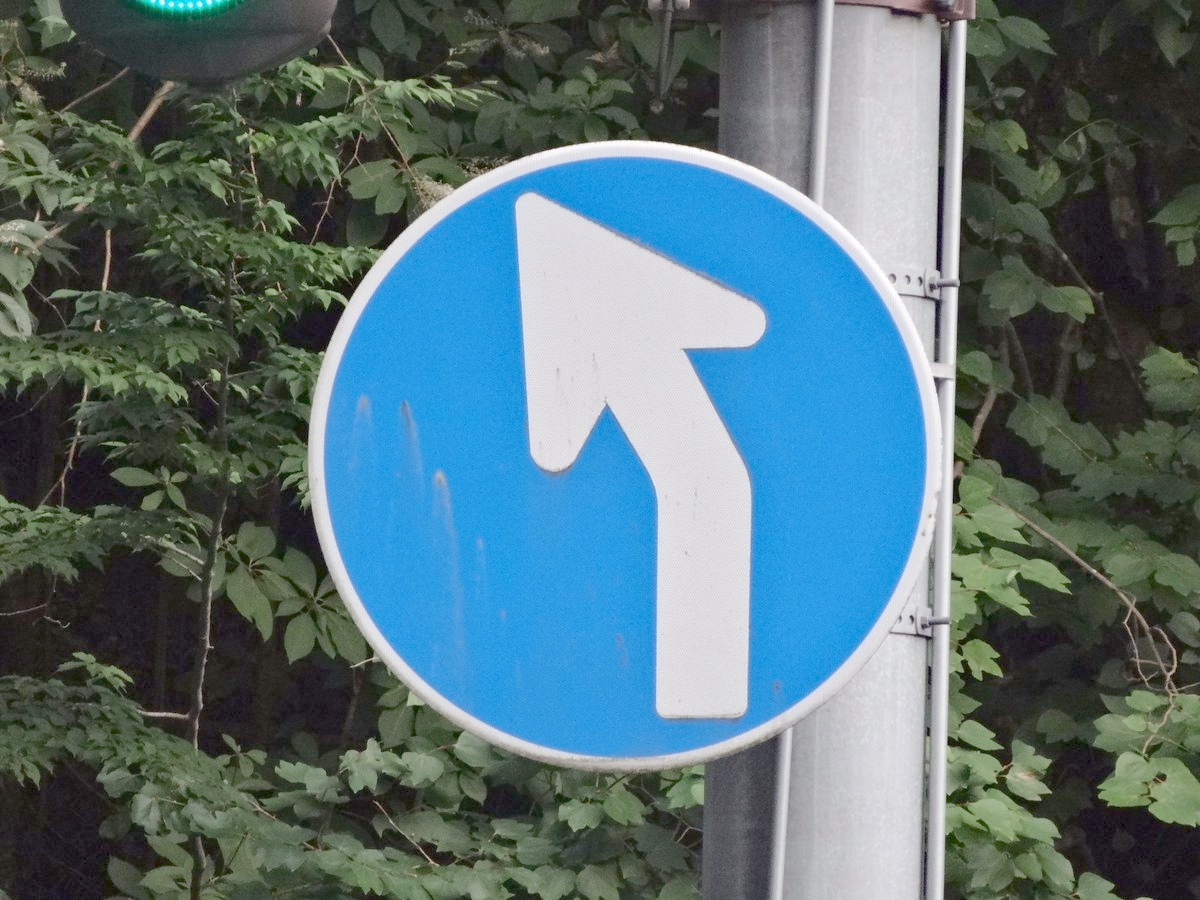Direction_sign: (247, 121, 945, 758)
